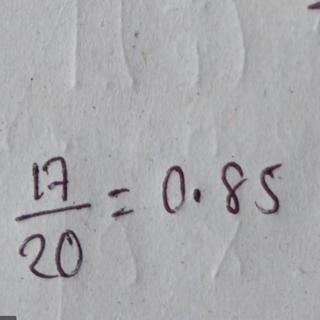.: (191, 182, 205, 208)
0: (53, 227, 85, 283), (159, 160, 188, 217)
1: (27, 161, 42, 201)
2: (19, 229, 55, 284)
5: (253, 157, 286, 219)
7: (43, 157, 71, 203)
8: (213, 156, 247, 217)
